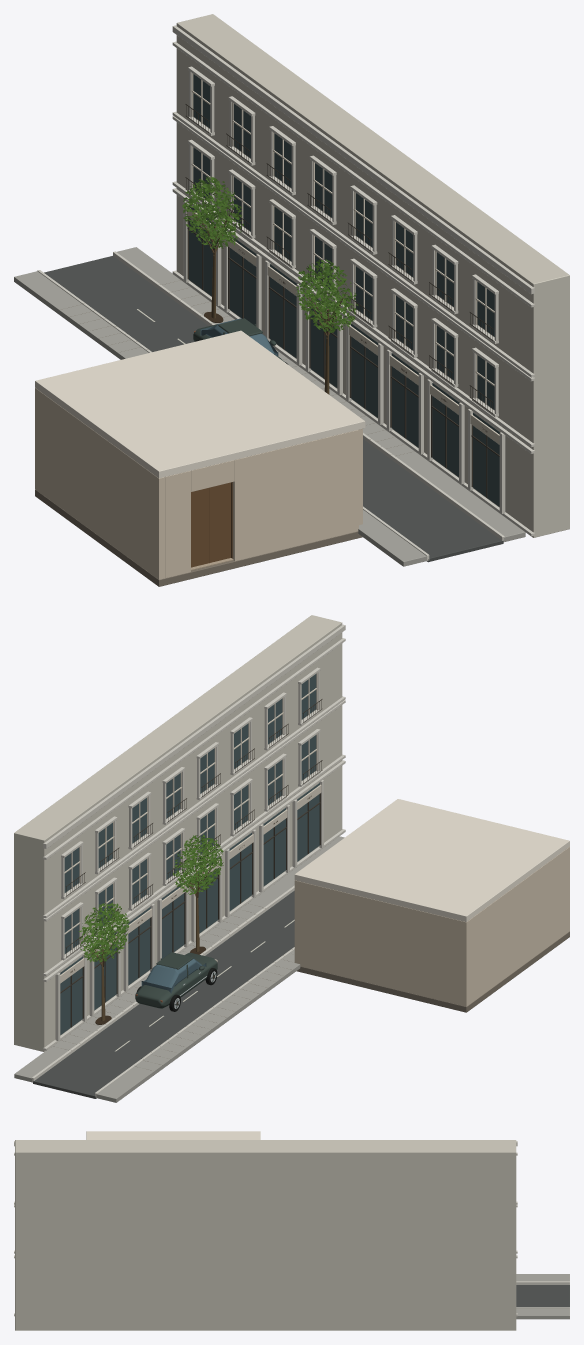
The model's file is scene_image.glb.
The picture shows the model from 3 angles, top to bottom: view 1: azimuth 30°, elevation 25°; view 2: azimuth 150°, elevation 25°; view 3: azimuth 270°, elevation 25°; orthographic projection. The views are drawn at different scales.
Parts seen in each view (by area): view 1: Street | opposite solid building, Ceiling | COMPLETE solid upper slab, Street | finite asphalt segment, Left wall | solid masonry, Entrance wall | full wall segment.001, Street | raised sidewalk.001, Street | raised sidewalk, Facade | horizontal stone cornice.006, Street tree | individual canopy leaves, Street tree | individual canopy leaves.001, Entrance wall | full wall segment, Floor | solid structural slab (+27 smaller); view 2: Street | opposite solid building, Ceiling | COMPLETE solid upper slab, Rear wall | solid masonry, Street | finite asphalt segment, Left wall | solid masonry, Street | raised sidewalk, Street | raised sidewalk.001, Facade | horizontal stone cornice.006, Street tree | individual canopy leaves.001, Street tree | individual canopy leaves, Floor | solid structural slab, Facade | horizontal stone cornice.004 (+17 smaller); view 3: Street | opposite solid building, Ceiling | COMPLETE solid upper slab, Street | finite asphalt segment, Street | raised sidewalk.001, Street | raised sidewalk.
Part boxes in pixels (x1,y1,x2,y2): Street | opposite solid building: (176,14,569,537); Ceiling | COMPLETE solid upper slab: (35,330,365,478); Street | finite asphalt segment: (44,256,503,562); Left wall | solid masonry: (36,389,164,579); Entrance wall | full wall segment.001: (232,430,358,561); Street | raised sidewalk.001: (116,247,525,541); Street | raised sidewalk: (14,271,427,566); Facade | horizontal stone cornice.006: (172,25,534,294); Street tree | individual canopy leaves: (296,259,358,332); Street tree | individual canopy leaves.001: (182,176,243,248); Entrance wall | full wall segment: (165,470,190,578); Floor | solid structural slab: (35,489,362,586); Street | opposite solid building: (14,615,342,1051); Ceiling | COMPLETE solid upper slab: (294,799,569,921); Rear wall | solid masonry: (294,880,469,1006); Street | finite asphalt segment: (33,890,294,1098); Left wall | solid masonry: (463,847,569,1006); Street | raised sidewalk: (96,949,300,1102); Street | raised sidewalk.001: (14,836,344,1082); Facade | horizontal stone cornice.006: (43,624,345,848); Street tree | individual canopy leaves.001: (79,902,129,962); Street tree | individual canopy leaves: (173,834,223,894); Floor | solid structural slab: (297,931,569,1012); Facade | horizontal stone cornice.004: (43,696,345,918); Street | opposite solid building: (15,1140,516,1330); Ceiling | COMPLETE solid upper slab: (86,1131,260,1139); Street | finite asphalt segment: (516,1285,569,1307); Street | raised sidewalk.001: (516,1308,569,1319); Street | raised sidewalk: (516,1274,569,1281).
Size of the model in its own units: 12.82 by 8.88 by 24.4.
